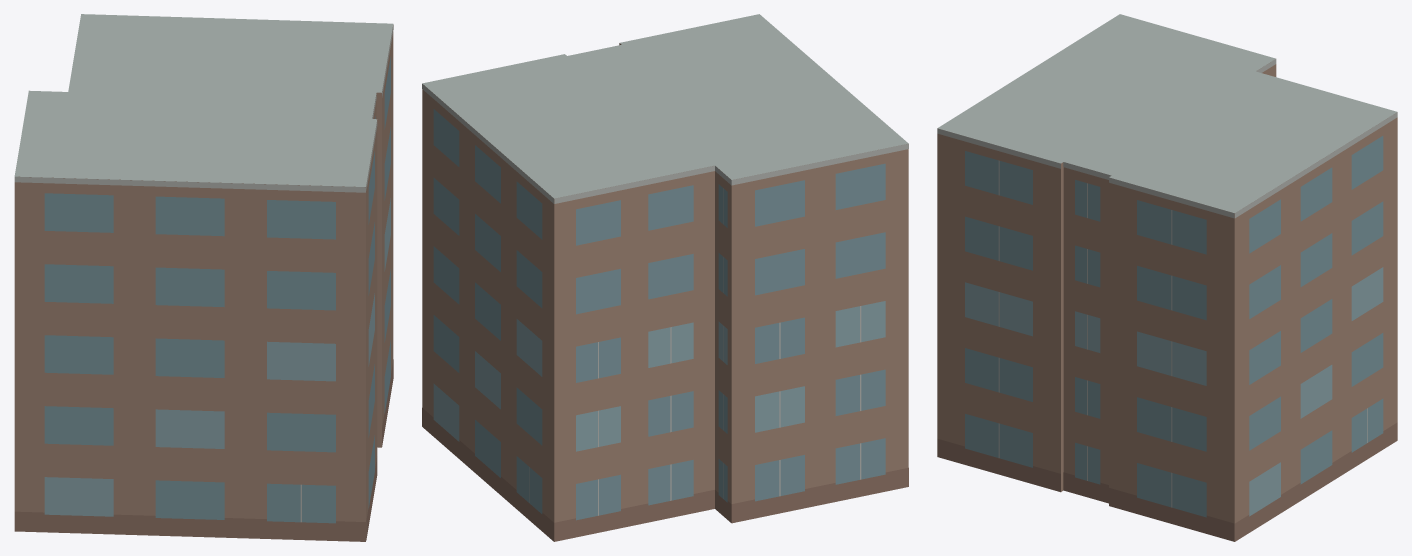
File: survey-upis-32759368.glb
3 renders of one model, left to right at view 1: azimuth 30°, elevation 25°; view 2: azimuth 150°, elevation 25°; view 3: azimuth 270°, elevation 25°, orthographic. The views are drawn at different scales.
Parts seen in each view (by area): view 1: survey-upis-32759368.tmp; view 2: survey-upis-32759368.tmp; view 3: survey-upis-32759368.tmp.
Part boxes in pixels (x1,y1,x2,y2): survey-upis-32759368.tmp: (14, 14, 393, 541); survey-upis-32759368.tmp: (422, 14, 908, 541); survey-upis-32759368.tmp: (937, 14, 1397, 541).
Size of the model in its own units: 19.84 by 15.25 by 19.37.
